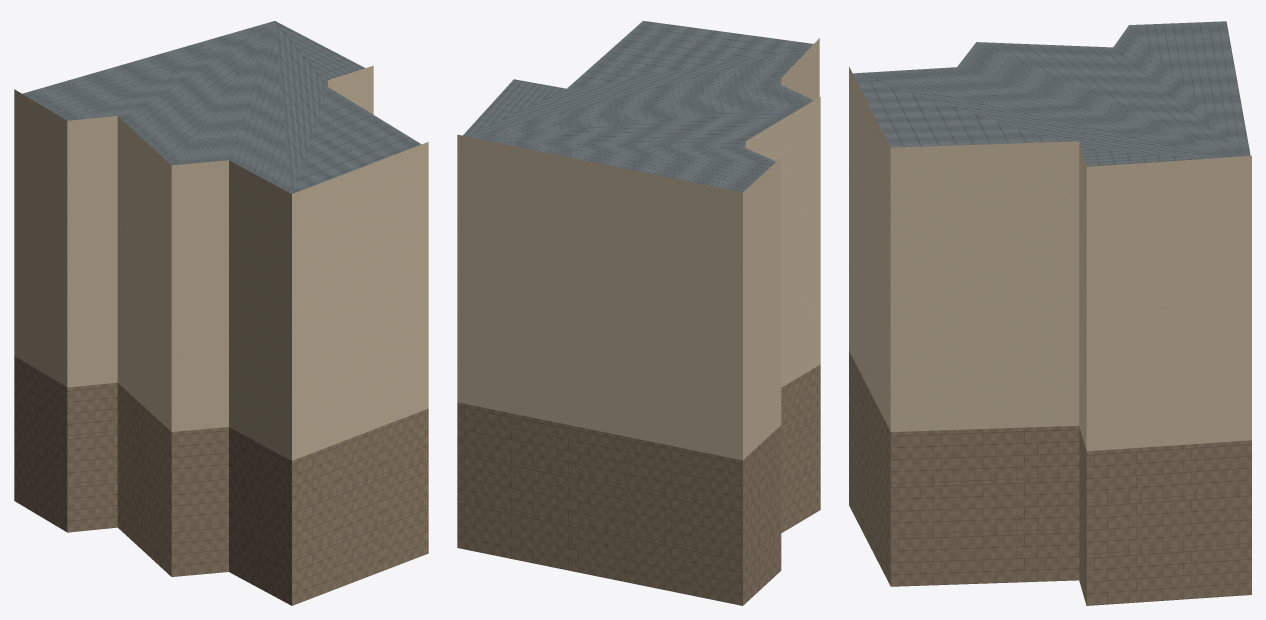
File: bld_c34_-39_442.gltf
3 renders of one model, left to right at view 1: azimuth 30°, elevation 25°; view 2: azimuth 150°, elevation 25°; view 3: azimuth 270°, elevation 25°, orthographic. The views are drawn at different scales.
Parts seen in each view (by area): view 1: bld_c34_-39_442; view 2: bld_c34_-39_442; view 3: bld_c34_-39_442.
Part boxes in pixels (x1,y1,x2,y2): bld_c34_-39_442: (14, 21, 428, 605); bld_c34_-39_442: (457, 21, 820, 605); bld_c34_-39_442: (849, 21, 1251, 605).
Bounding box in the file's own units: 10.81 × 14.48 × 12.04.
4 materials, 4 textured.
